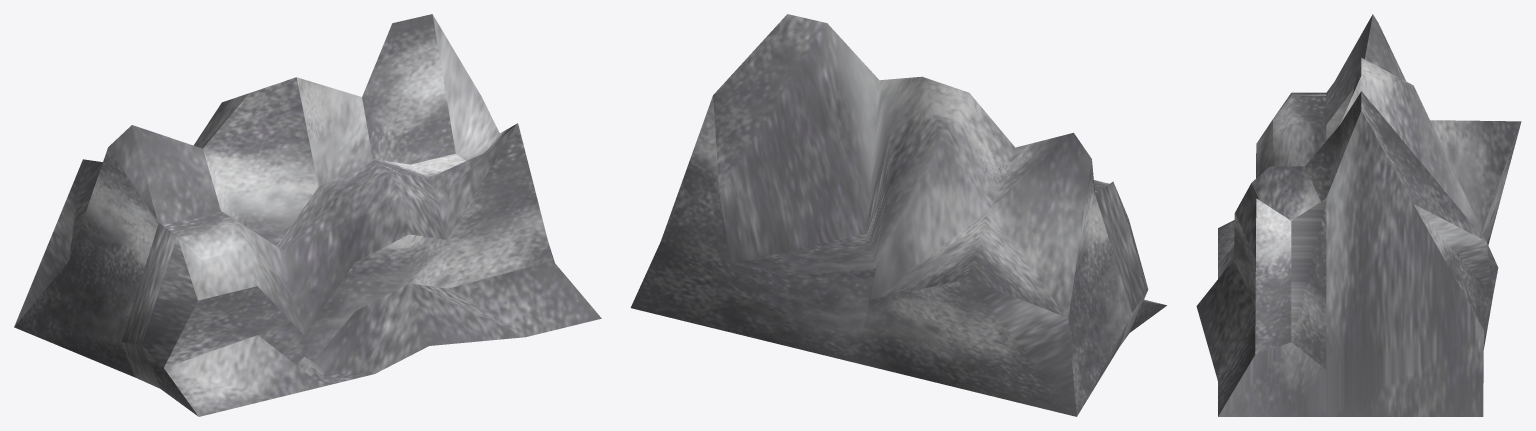
The model's file is Mountain7 - Level 1.FBX.
The picture shows the model from 3 angles, left to right: view 1: azimuth 30°, elevation 25°; view 2: azimuth 150°, elevation 25°; view 3: azimuth 270°, elevation 25°; orthographic projection. The views are drawn at different scales.
Parts seen in each view (by area): view 1: Mountain 7; view 2: Mountain 7; view 3: Mountain 7.
Part boxes in pixels (<box>): Mountain 7: <box>14,14,601,416</box>; Mountain 7: <box>630,14,1166,416</box>; Mountain 7: <box>1196,14,1521,416</box>.
Size of the model in its own units: 222 by 129 by 145.
1 material, 1 textured.
